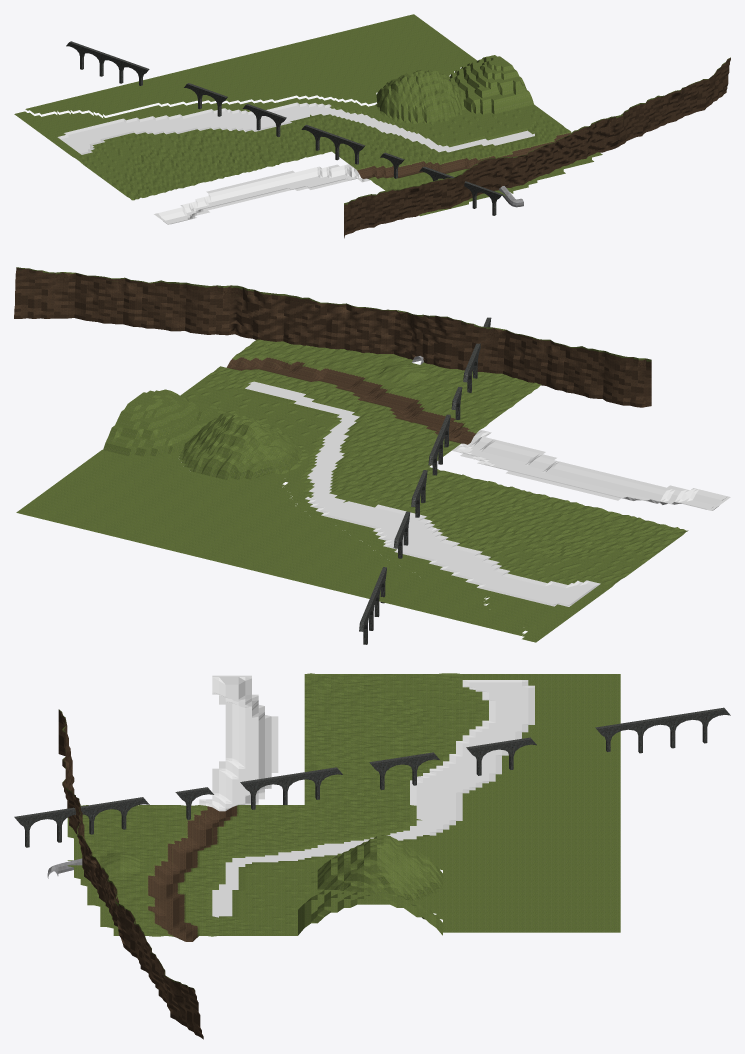
The model's file is MAP_Elvoria.glb.
3 renders of one model, top to bottom at view 1: azimuth 30°, elevation 25°; view 2: azimuth 150°, elevation 25°; view 3: azimuth 270°, elevation 25°, orthographic. The views are drawn at different scales.
Visible parts, largest first — view 1: Ground, Ground.001, Cliffside, River Extra, Bridge Segment 1; view 2: Ground, Ground.001, Cliffside, River Extra, Bridge Segment 1; view 3: Ground, Ground.001, Bridge Segment 1, River Extra, Cliffside.
Boxes of the visible parts, x1,y1,x2,y2 form: Ground: (14, 55, 602, 216); Ground.001: (25, 14, 477, 115); Cliffside: (344, 57, 730, 238); River Extra: (154, 164, 370, 224); Bridge Segment 1: (66, 41, 502, 215); Ground: (103, 339, 688, 642); Ground.001: (16, 449, 527, 635); Cliffside: (14, 267, 651, 407); River Extra: (452, 430, 730, 510); Bridge Segment 1: (359, 317, 491, 644); Ground: (67, 673, 620, 941); Ground.001: (410, 678, 620, 932); Bridge Segment 1: (14, 707, 730, 847); River Extra: (199, 675, 278, 811); Cliffside: (58, 709, 203, 1039).
Bounding box in the file's own units: 503 × 39.01 × 417.
Materials: 7 (6 with a texture image).
